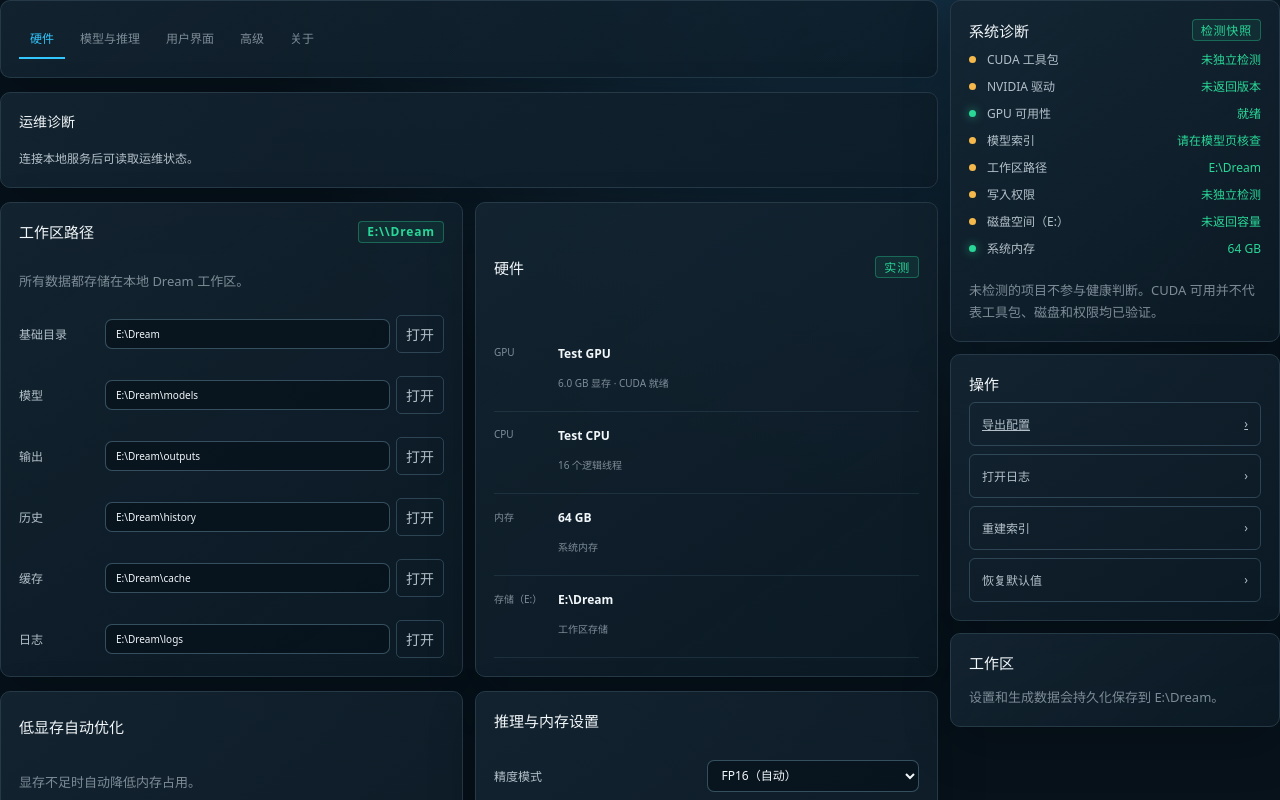
it: Settings page › keeps legacy and failed capability responses unconfirmed instead of claiming missing engine support
Click the tab "高级". click: (252, 39)
box: [229, 19, 275, 59]
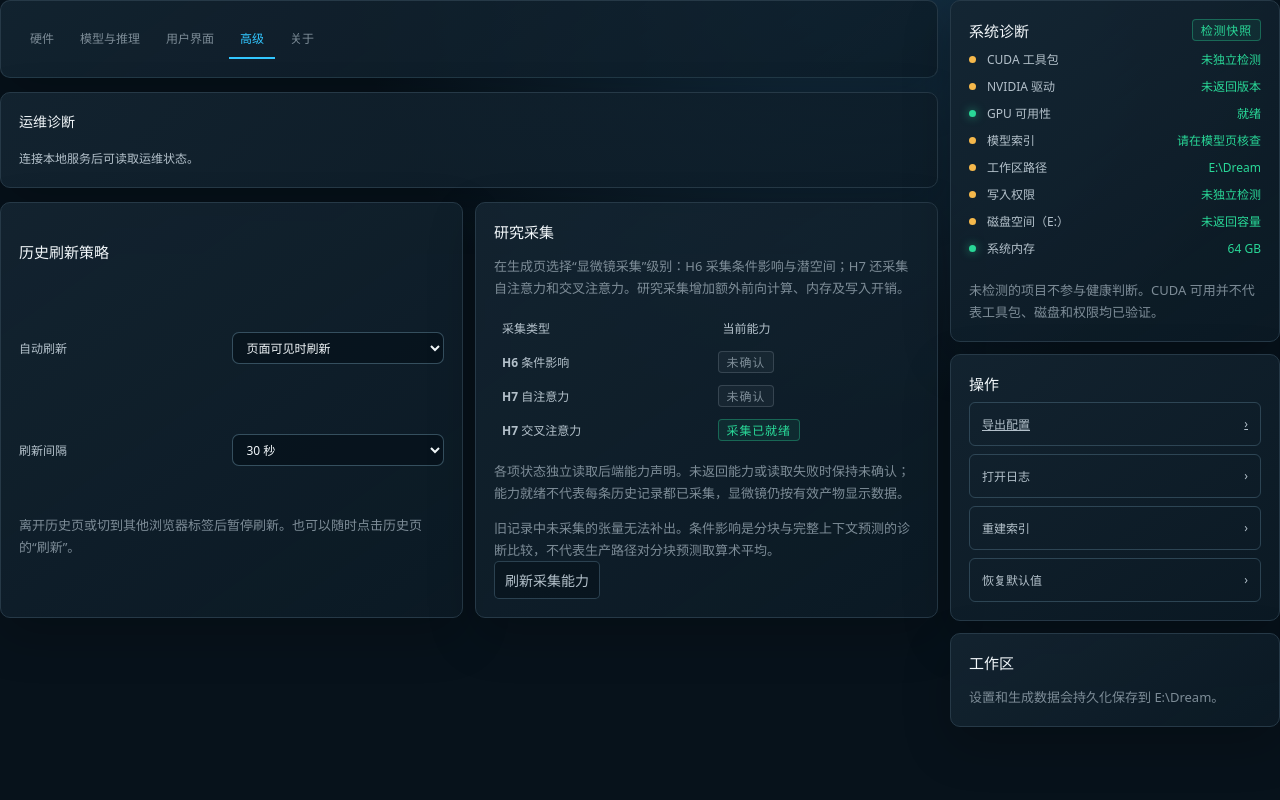
Expected: the text "H7 交叉注意力" shows "采集已就绪", [727, 422, 791, 439]
Expected: the text "H6 条件影响" shows "未确认", [727, 354, 765, 371]
Expected: the text "H7 自注意力" shows "未确认", [727, 388, 765, 405]
Click the button "刷新采集能力". click: (547, 580)
box: [494, 561, 600, 599]
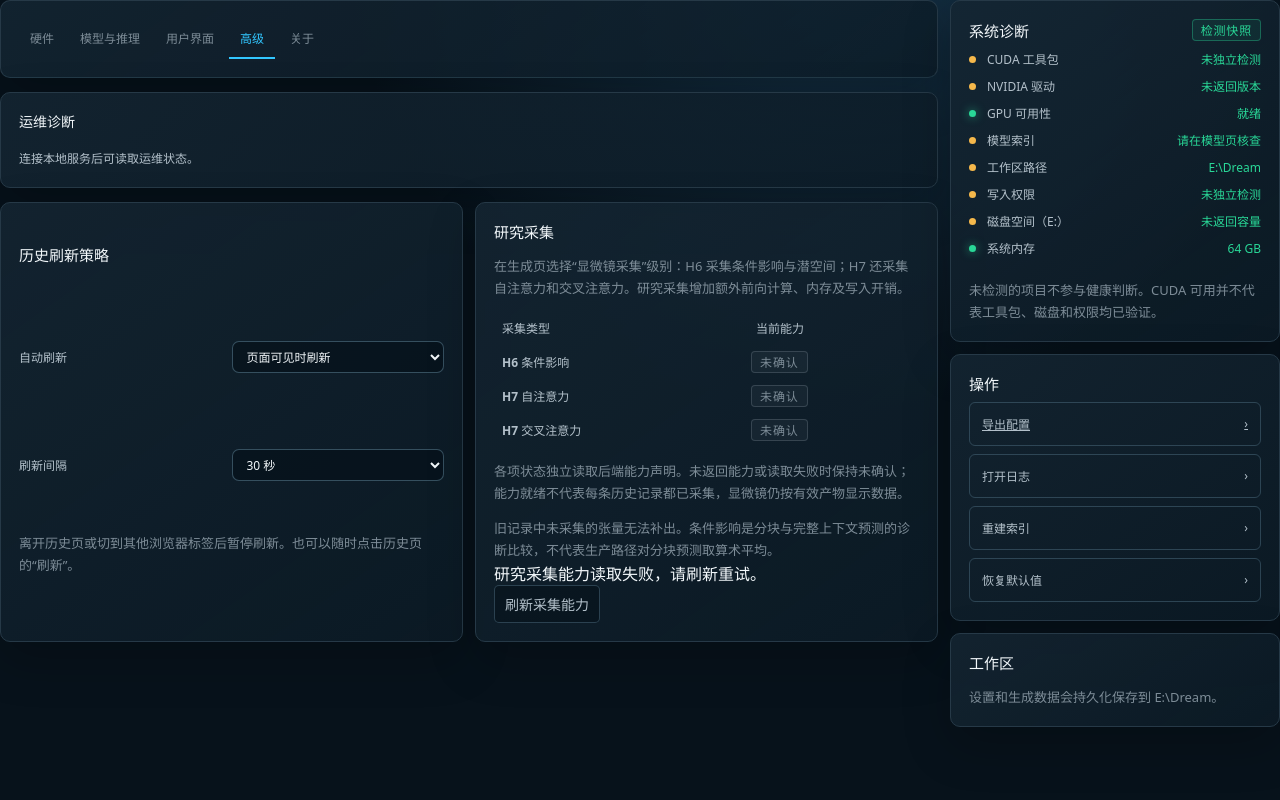
Expected: the text "研究采集能力读取失败，请刷新重试。" is shown, [494, 563, 766, 585]
Expected: the text "采集已就绪" is gone
